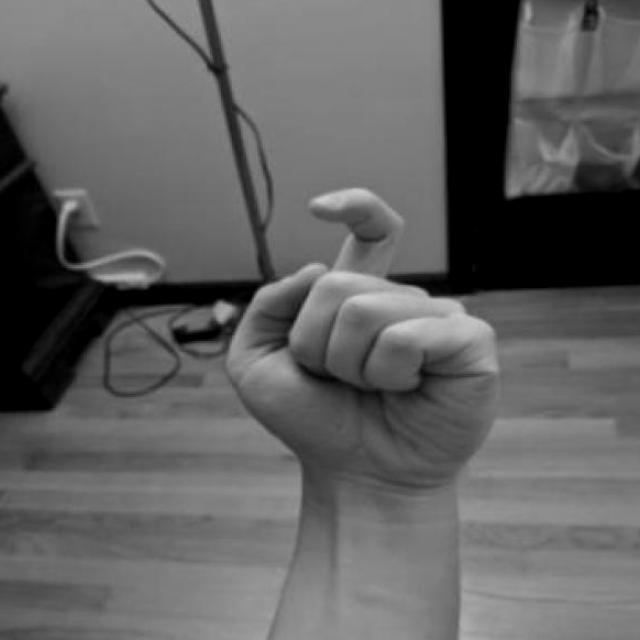X: (221, 181, 513, 517)
